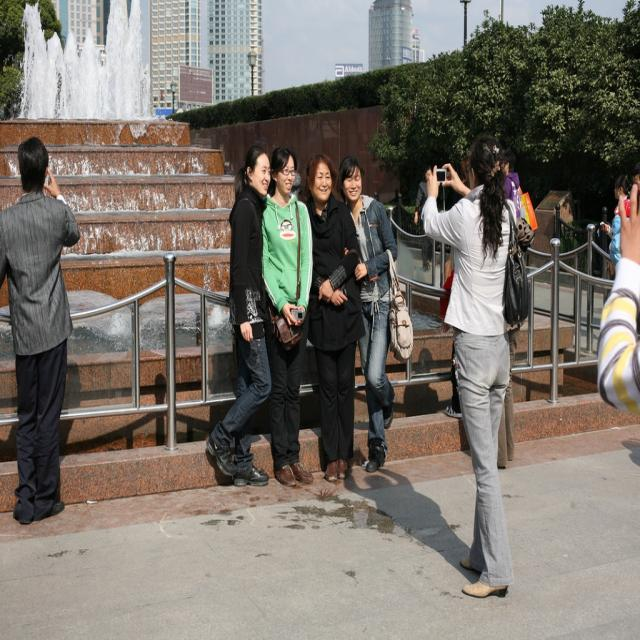body: (418, 133, 528, 599), (0, 128, 82, 532), (332, 152, 416, 476), (203, 142, 275, 490), (255, 140, 318, 489), (301, 152, 367, 483), (593, 178, 639, 456), (442, 151, 487, 421), (493, 317, 527, 472), (600, 173, 632, 267), (414, 165, 437, 272), (499, 149, 522, 222), (630, 162, 640, 215)
